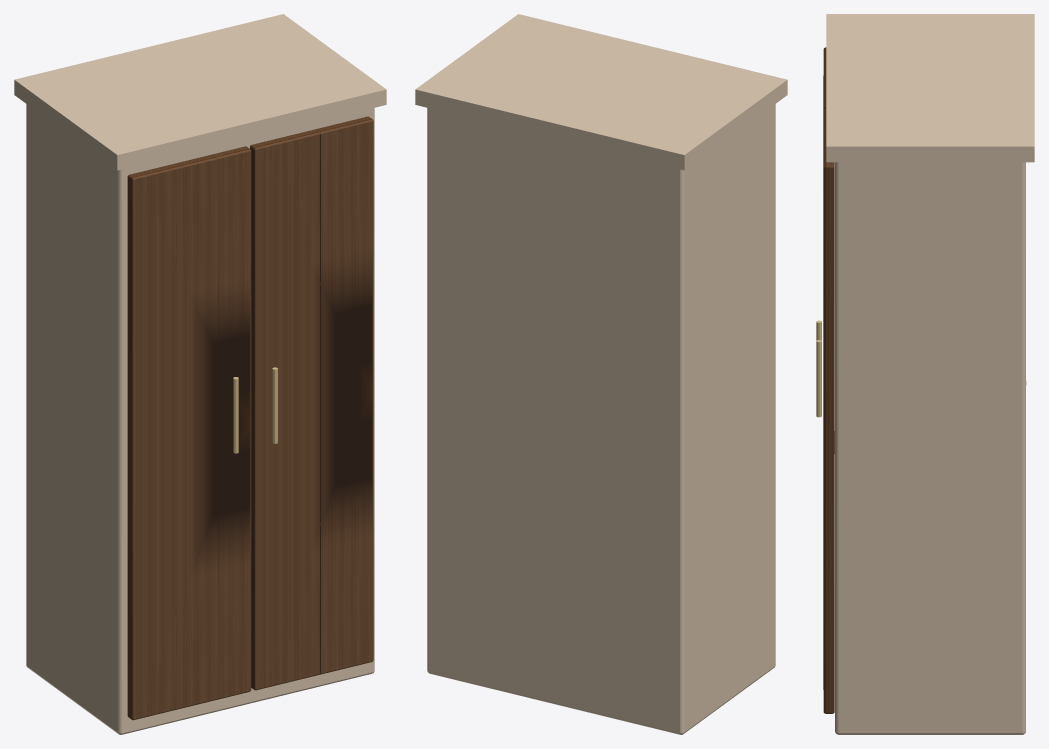
3 views of the same model, side by side, from view 1: azimuth 30°, elevation 25°; view 2: azimuth 150°, elevation 25°; view 3: azimuth 270°, elevation 25° (orthographic).
Parts seen in each view (by area): view 1: wardrobe_door_2, wardrobe_door_4, wardrobe_carcass_1, wardrobe_crown_6; view 2: wardrobe_carcass_1, wardrobe_crown_6; view 3: wardrobe_carcass_1, wardrobe_crown_6, wardrobe_door_4, rod_5.
Part boxes in pixels (x1,y1,x2,y2): wardrobe_door_2: [127, 146, 251, 720]; wardrobe_door_4: [250, 116, 373, 690]; wardrobe_carcass_1: [26, 104, 374, 734]; wardrobe_crown_6: [14, 14, 386, 170]; wardrobe_carcass_1: [427, 104, 775, 734]; wardrobe_crown_6: [415, 14, 787, 170]; wardrobe_carcass_1: [834, 162, 1026, 734]; wardrobe_crown_6: [826, 14, 1034, 162]; wardrobe_door_4: [823, 107, 834, 713]; rod_5: [816, 340, 821, 417].
Size of the model in its own units: 1.1 by 2.29 by 0.765.
3 materials, 1 textured.
